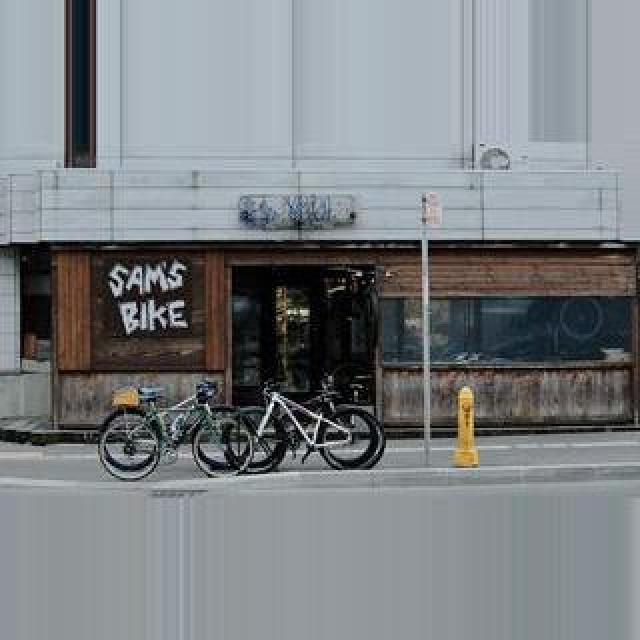Person: (96, 376, 248, 480), (234, 373, 386, 473)
